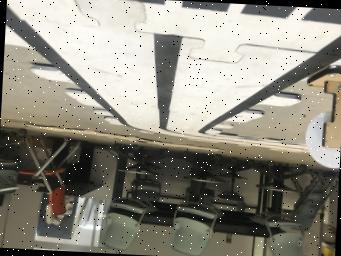street: (5, 0, 341, 134), (5, 0, 341, 134), (5, 0, 341, 134)
